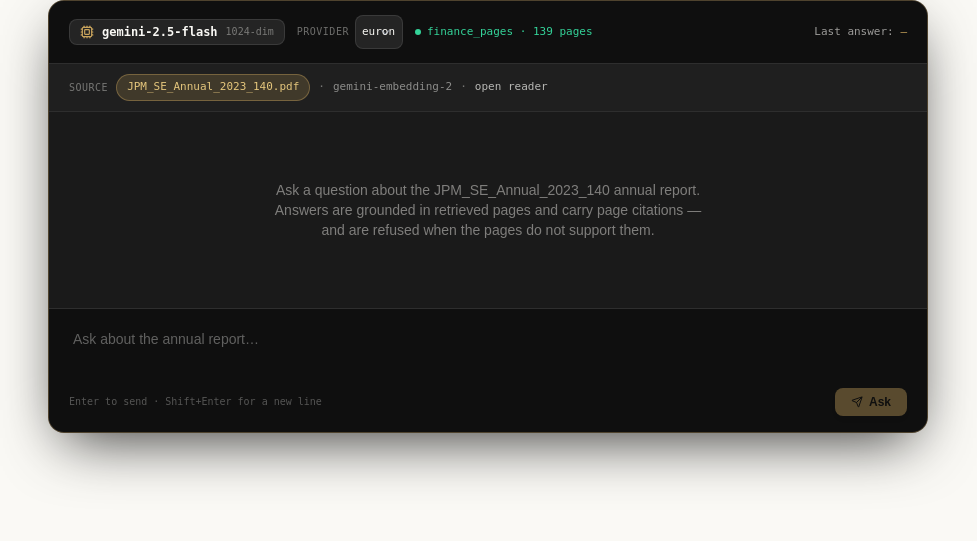
it: refusals and failures › reports a real abort as cancelled, with no answer rendered
The width and height of the screenshot is (977, 541).
Expected: the text "gemini-2.5-flash" is shown, [102,24,218,40]
Step 1. Type "net interest income?" into the text box → (488, 348), box [69,324,907,372]
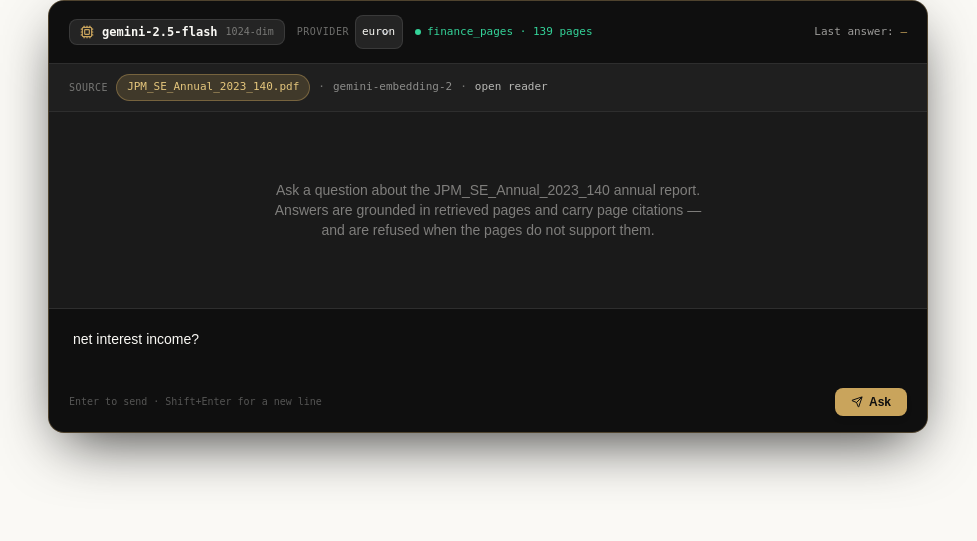
Step 2. Click the button "Ask" → (871, 402), box [835,388,907,416]
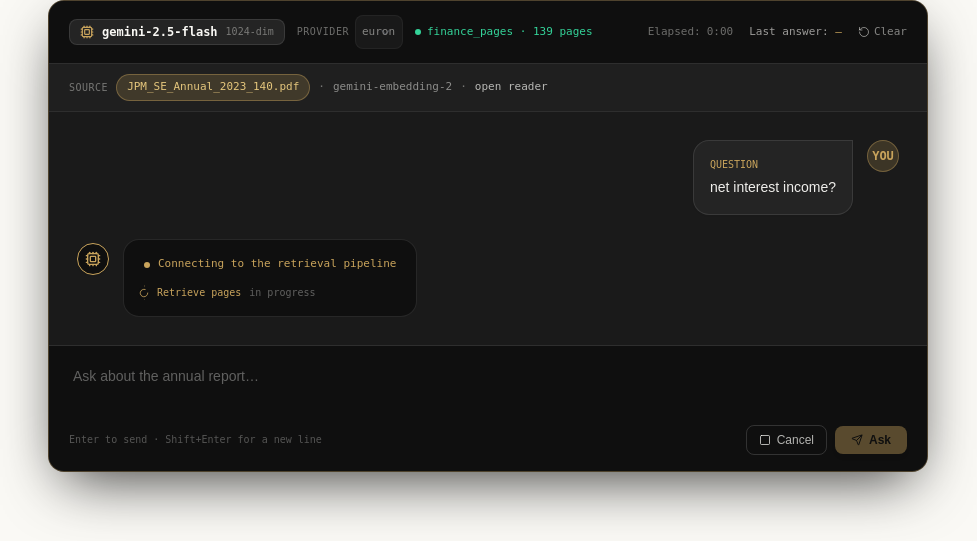
Expected: the element with test id "chat-thinking" is shown, [77,239,417,317]
Step 3. Click the button "Cancel" → (786, 440), box [746,425,827,455]
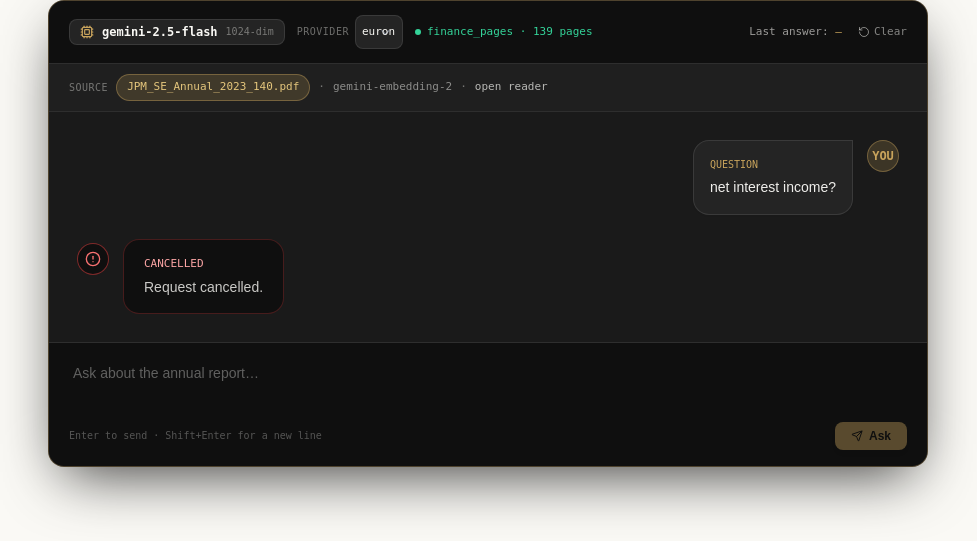
Expected: the text "CANCELLED" is shown, [144,257,204,270]
Expected: the text "Request cancelled." is shown, [144,277,263,297]
